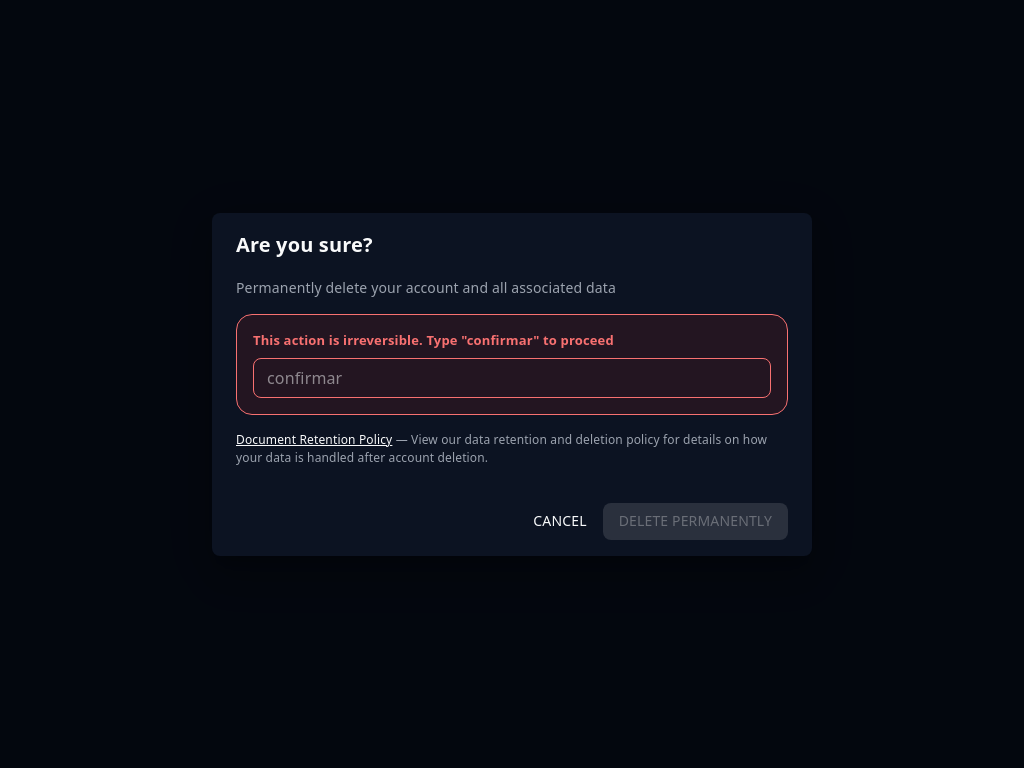
Test: DeleteAccountModal › keeps button disabled for case-different match
The image size is (1024, 768).
Type "CONFIRMAR" into the field with placeholder "confirmar" at (512, 378), box [253,358,771,398]
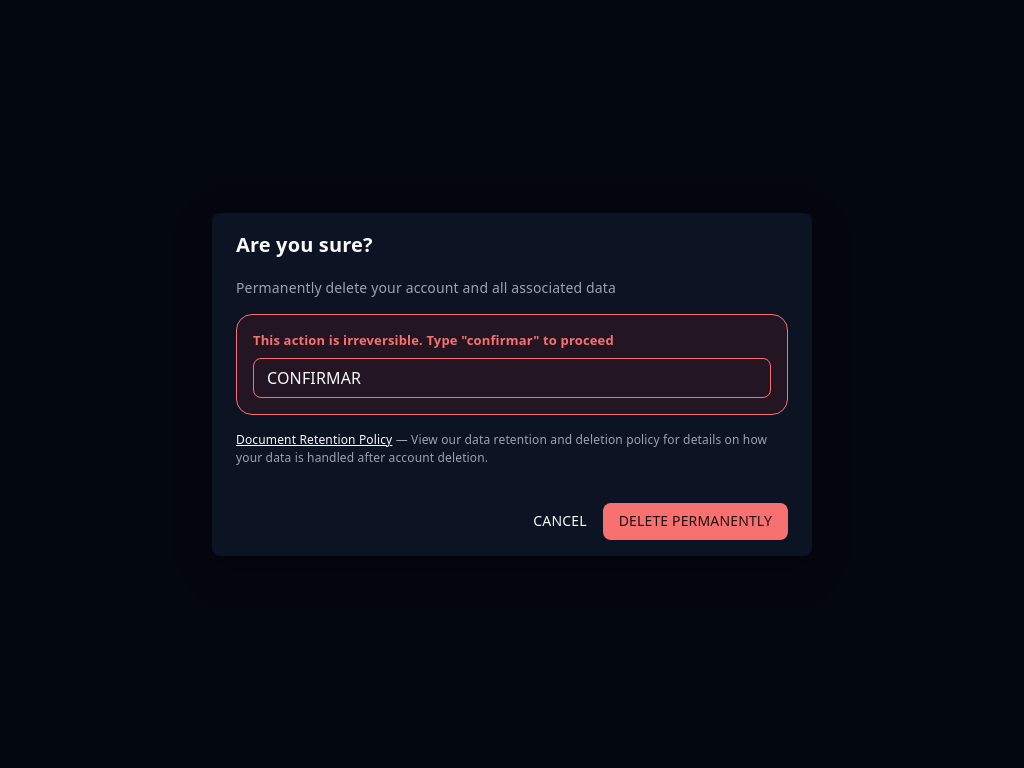
Expected: the button "Delete permanently" is enabled, [603,503,788,540]
